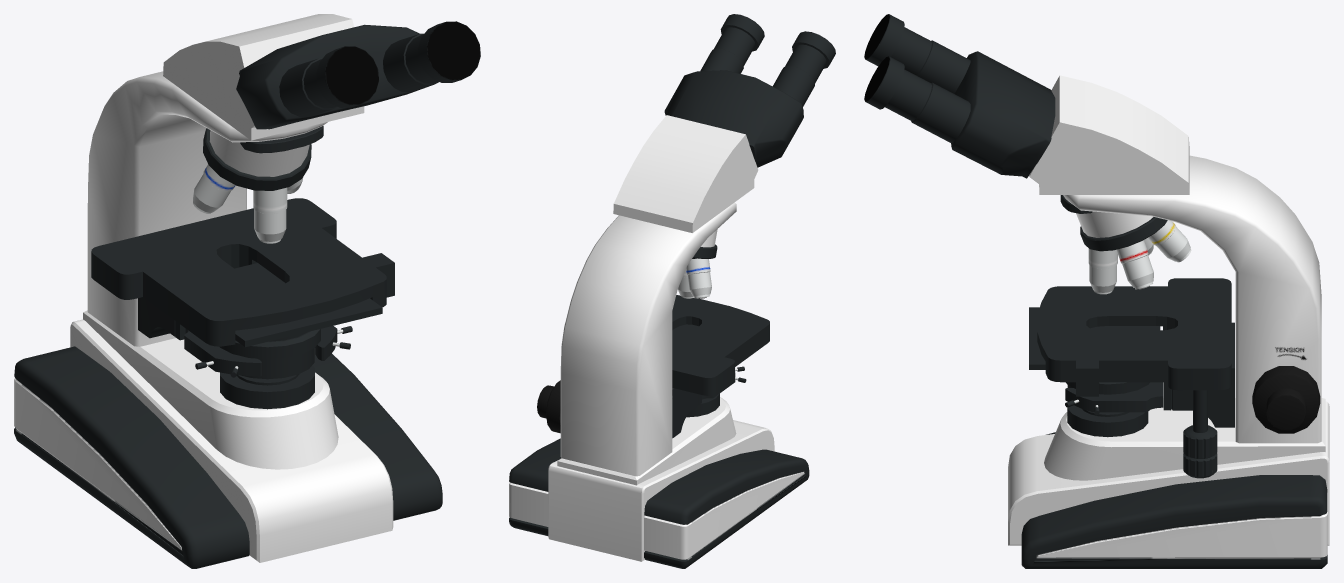
The model's file is microscope.glb.
3 renders of one model, left to right at view 1: azimuth 30°, elevation 25°; view 2: azimuth 150°, elevation 25°; view 3: azimuth 270°, elevation 25°, orthographic. The views are drawn at different scales.
Parts seen in each view (by area): view 1: Microscope_Microscope_0; view 2: Microscope_Microscope_0; view 3: Microscope_Microscope_0.
Boxes of the visible parts, left/top/right/bottom form: Microscope_Microscope_0: left=14, top=14, right=480, bottom=568; Microscope_Microscope_0: left=509, top=14, right=835, bottom=568; Microscope_Microscope_0: left=864, top=14, right=1329, bottom=568.
Bounding box in the file's own units: 0.7586 × 1.61 × 1.41.
Materials: 1 (1 with a texture image).
